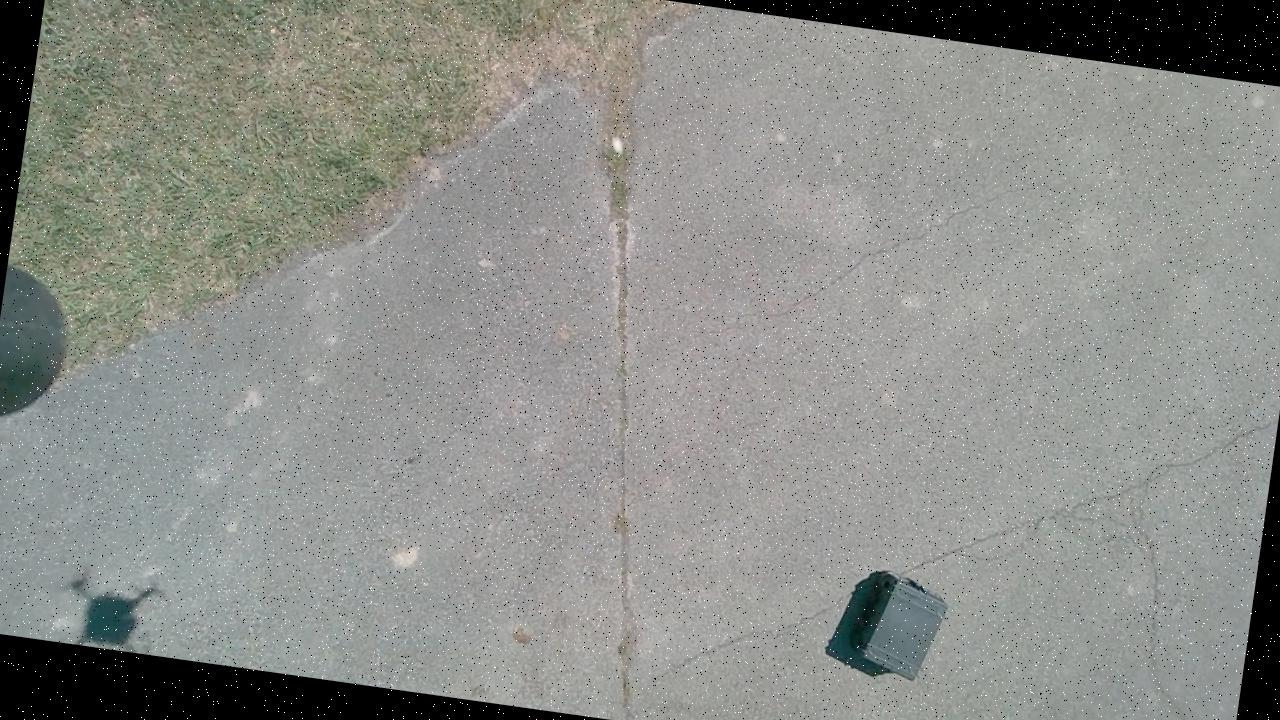rako: (855, 571, 950, 683)
